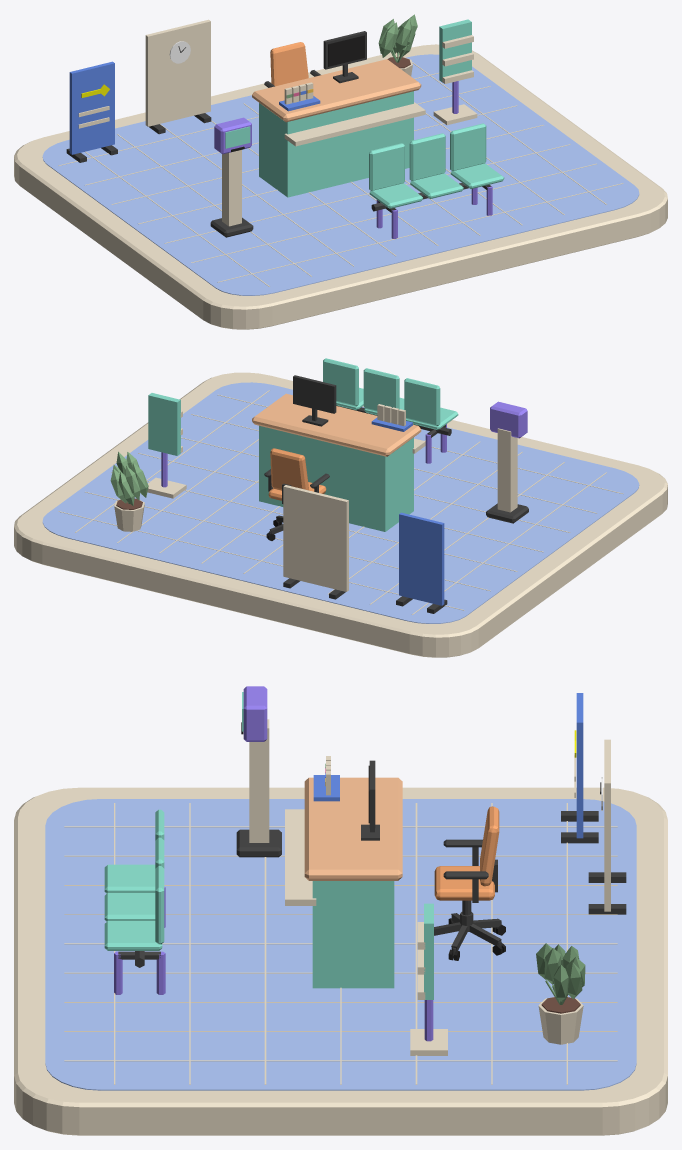
The picture shows the model from 3 angles, top to bottom: view 1: azimuth 30°, elevation 25°; view 2: azimuth 150°, elevation 25°; view 3: azimuth 270°, elevation 25°; orthographic projection. The views are drawn at different scales.
Visible parts, largest first — view 1: COM-02 Floor Surface, COM-01 Rounded Base Direct, Counter body, Panel.001, Countertop, Panel, Visitor shelf, Frame, Back.001, Back.002, COM-04_Chair_blender_direct, Back (+11 smaller); view 2: COM-02 Floor Surface, COM-01 Rounded Base Direct, Counter body, Panel.001, Countertop, Panel, Pot, COM-04_Chair_blender_direct, Pedestal, Frame, Back, Back.001 (+7 smaller); view 3: COM-02 Floor Surface, COM-01 Rounded Base Direct, Countertop, Counter body, COM-04_Chair_blender_direct, Pot, Pedestal, Visitor shelf, Seat.002, Seat, Seat.001, Display housing (+13 smaller).
Part boxes in pixels (x1,y1,x2,y2): COM-02 Floor Surface: (42,54,639,295); COM-01 Rounded Base Direct: (14,44,667,329); Counter body: (259,91,413,197); Panel.001: (145,19,210,126); Countertop: (252,59,421,122); Panel: (69,61,114,154); Visitor shelf: (284,102,425,146); Frame: (323,31,366,83); Back.001: (409,133,445,180); Back.002: (450,123,486,170); COM-04_Chair_blender_direct: (264,42,320,87); Back: (369,143,404,190); COM-02 Floor Surface: (42,382,639,623); COM-01 Rounded Base Direct: (14,372,667,657); Counter body: (259,425,413,531); Panel.001: (283,485,348,591); Countertop: (252,393,421,456); Panel: (399,512,444,605); Pot: (110,451,148,531); COM-04_Chair_blender_direct: (264,448,329,540); Pedestal: (497,428,517,512); Frame: (293,375,336,426); Back: (404,378,440,426); Back.001: (363,368,399,411); COM-02 Floor Surface: (45,799,636,1090); COM-01 Rounded Base Direct: (14,787,667,1135); Countertop: (304,777,402,880); Counter body: (312,881,394,988); COM-04_Chair_blender_direct: (434,806,505,960); Pot: (536,943,585,1044); Pedestal: (249,719,269,842); Visitor shelf: (285,809,316,905); Seat.002: (104,921,162,950); Seat: (104,864,155,893); Seat.001: (104,893,155,921); Display housing: (243,686,267,741).
Bounding box in the file's own units: 6 × 1.87 × 5.2.
Materials: 1 (1 with a texture image).
